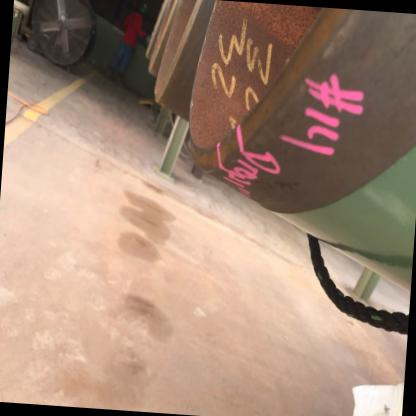Bevel: (220, 130, 240, 160)
